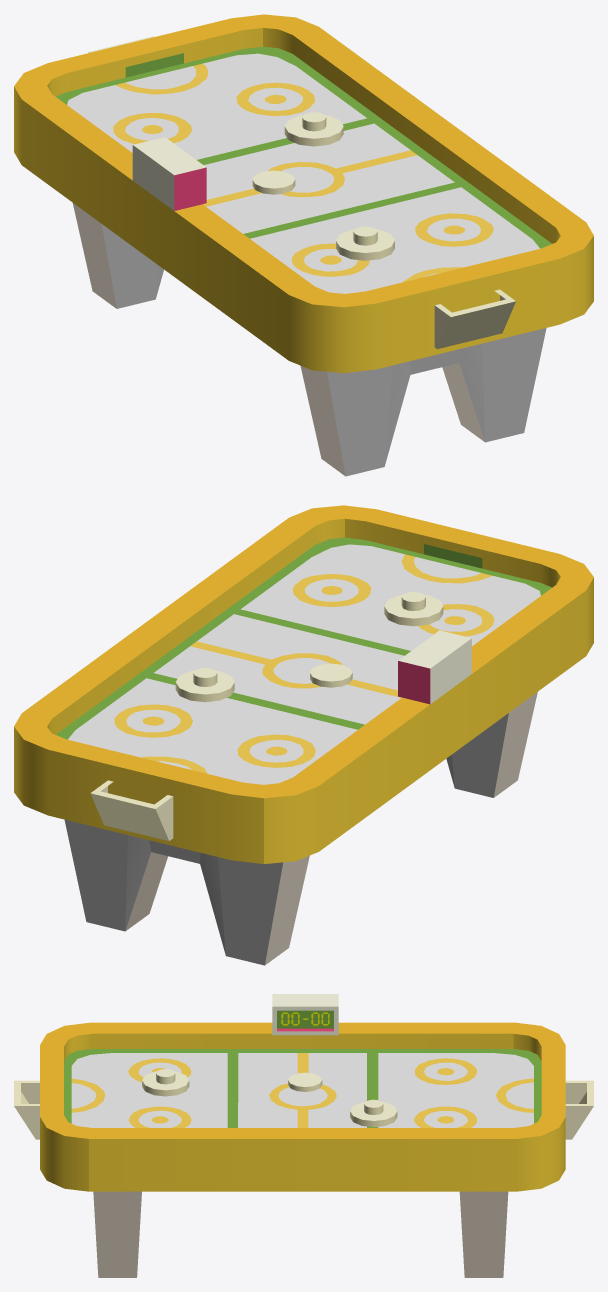
File: Game10.fbx
The picture shows the model from 3 angles, top to bottom: view 1: azimuth 30°, elevation 25°; view 2: azimuth 150°, elevation 25°; view 3: azimuth 270°, elevation 25°; orthographic projection. The views are drawn at different scales.
Visible parts, largest first — view 1: Game10; view 2: Game10; view 3: Game10.
Part boxes in pixels (box(x1,y1,x2,y2)): Game10: box(14, 14, 593, 476); Game10: box(14, 505, 593, 965); Game10: box(14, 994, 593, 1277).
Bounding box in the file's own units: 50.66 × 38.57 × 107.
